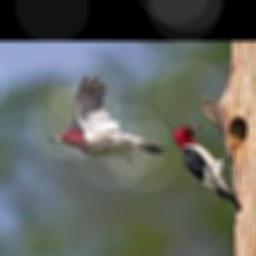Woodpecker: (47, 76, 170, 163), (172, 124, 242, 212)
